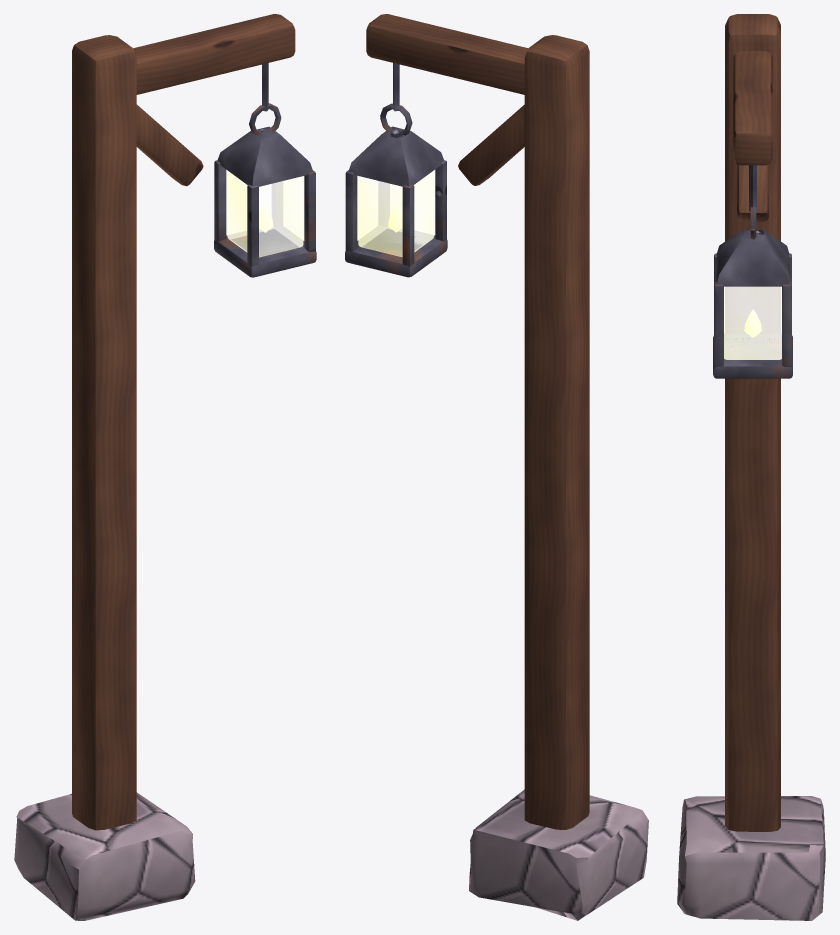
The model's file is lantern_post.gltf.
3 views of the same model, side by side, from view 1: azimuth 30°, elevation 25°; view 2: azimuth 150°, elevation 25°; view 3: azimuth 270°, elevation 25° (orthographic). The views are drawn at different scales.
Visible parts, largest first — view 1: lantern_post_mesh; view 2: lantern_post_mesh; view 3: lantern_post_mesh.
Part boxes in pixels (x1,y1,x2,y2): lantern_post_mesh: [14, 14, 316, 920]; lantern_post_mesh: [345, 14, 648, 920]; lantern_post_mesh: [677, 14, 825, 920].
Size of what is drawn, in the model's own units: 0.7655 by 2.41 by 0.3715.
6 materials, 3 textured.
